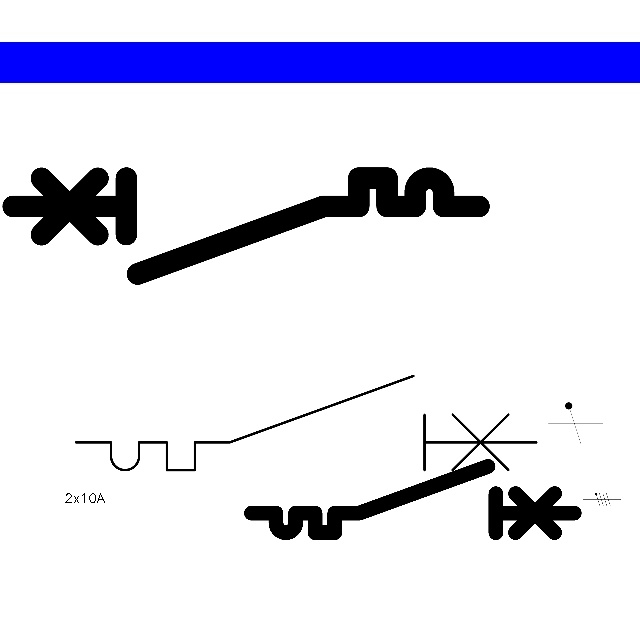interruptor_termomagnetico: (1, 166, 491, 286), (64, 364, 548, 482), (243, 458, 582, 541)
